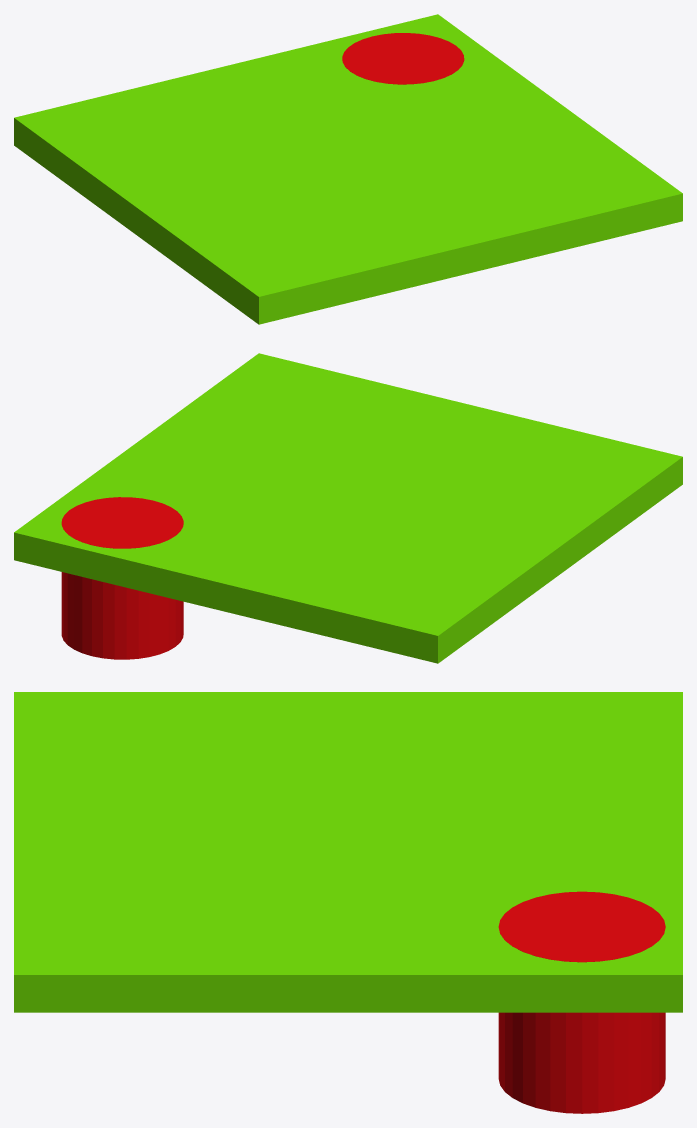
Rendered from BlockTypeHole-3.fbx.
3 renders of one model, top to bottom at view 1: azimuth 30°, elevation 25°; view 2: azimuth 150°, elevation 25°; view 3: azimuth 270°, elevation 25°, orthographic. The views are drawn at different scales.
Visible parts, largest first — view 1: Cube, Cylinder; view 2: Cube, Cylinder; view 3: Cube, Cylinder.
Boxes of the visible parts, bbox=[...] form: Cube: bbox=[14, 14, 682, 324]; Cylinder: bbox=[342, 33, 464, 84]; Cube: bbox=[14, 353, 682, 663]; Cylinder: bbox=[61, 497, 183, 659]; Cube: bbox=[14, 692, 682, 1012]; Cylinder: bbox=[498, 891, 665, 1113].
Size of the model in its own units: 800 by 200 by 800.
